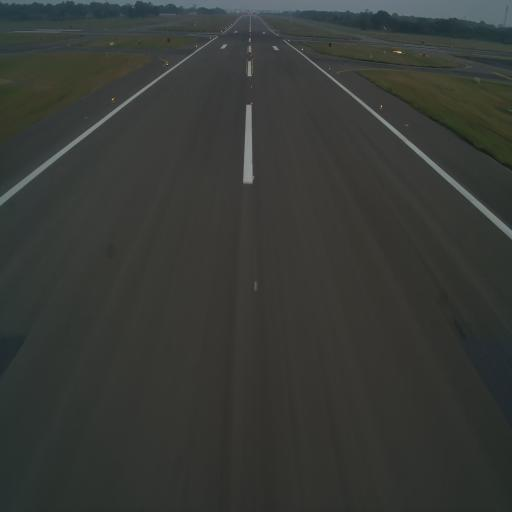off: (252, 126, 254, 135)
on: (253, 278, 261, 293), (251, 173, 256, 184), (111, 96, 116, 103), (250, 101, 255, 107), (379, 104, 383, 110), (194, 44, 198, 49), (166, 61, 169, 67), (328, 67, 332, 71), (301, 46, 304, 51), (250, 85, 253, 90), (250, 54, 252, 58), (251, 74, 253, 77), (250, 50, 252, 53), (250, 66, 252, 68), (250, 60, 252, 62)
